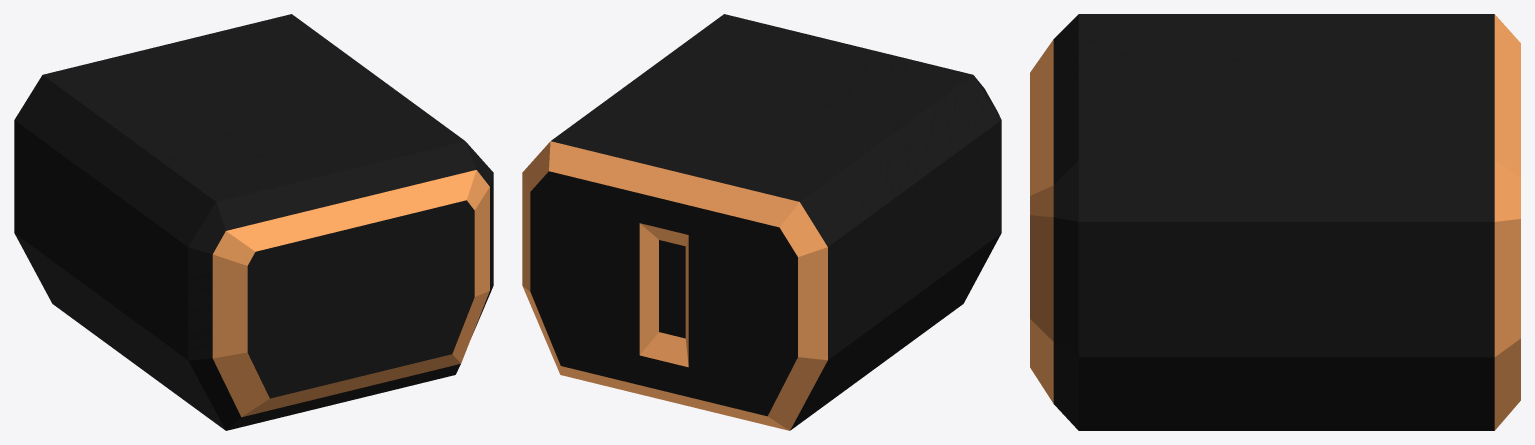
The model's file is YK_Shotgun_Body.obj.
3 views of the same model, side by side, from view 1: azimuth 30°, elevation 25°; view 2: azimuth 150°, elevation 25°; view 3: azimuth 270°, elevation 25° (orthographic). The views are drawn at different scales.
Parts seen in each view (by area): view 1: BF_Block_111.002_BF_Block_111.002; view 2: BF_Block_111.002_BF_Block_111.002; view 3: BF_Block_111.002_BF_Block_111.002.
Boxes of the visible parts, <box> form: BF_Block_111.002_BF_Block_111.002: <box>14,14,493,430</box>; BF_Block_111.002_BF_Block_111.002: <box>522,14,1001,430</box>; BF_Block_111.002_BF_Block_111.002: <box>1030,14,1520,430</box>.
Size of the model in its own units: 0.8579 by 0.621 by 0.9967.
